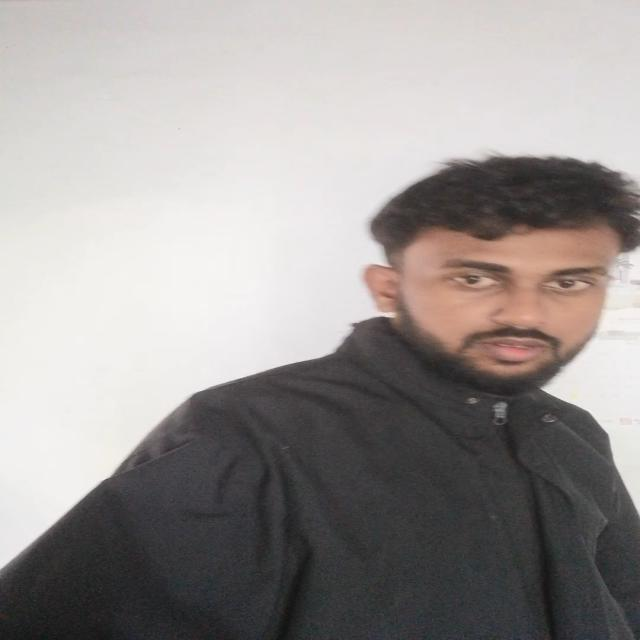Jacket_Wearer: (4, 292, 640, 640)
Person: (4, 166, 639, 640)
